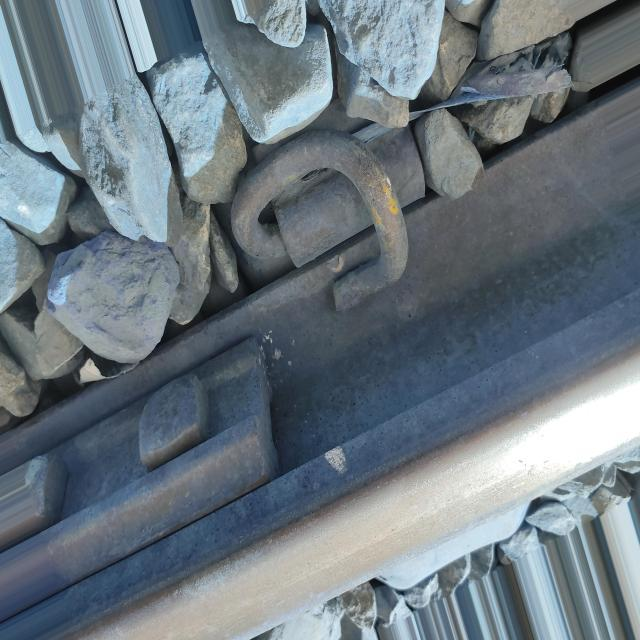Good Fasteners: (231, 128, 425, 310)
